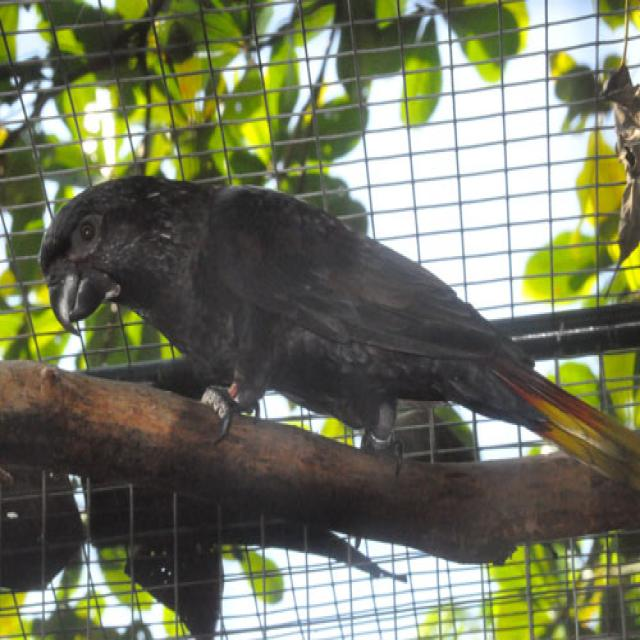Nuri Hitam: (26, 155, 640, 523)
